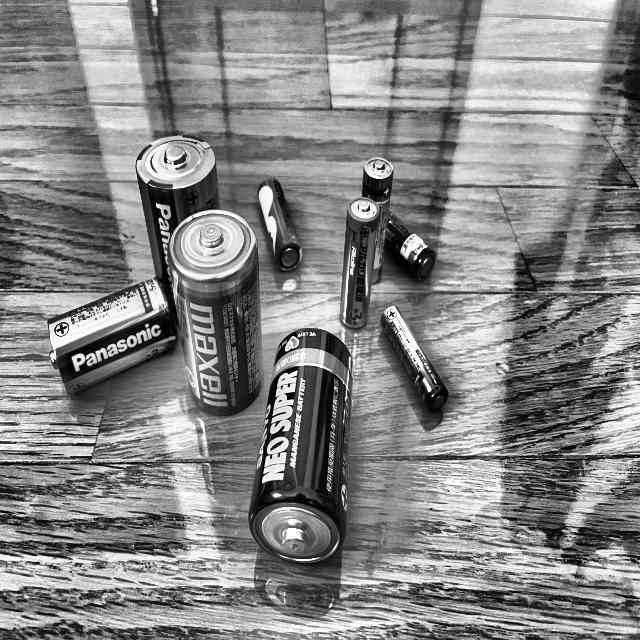drycell: (249, 328, 353, 564), (168, 209, 263, 415), (47, 277, 177, 394), (135, 134, 219, 282), (381, 305, 449, 413), (340, 196, 380, 328), (258, 177, 301, 270), (363, 157, 393, 283), (384, 212, 436, 283)
